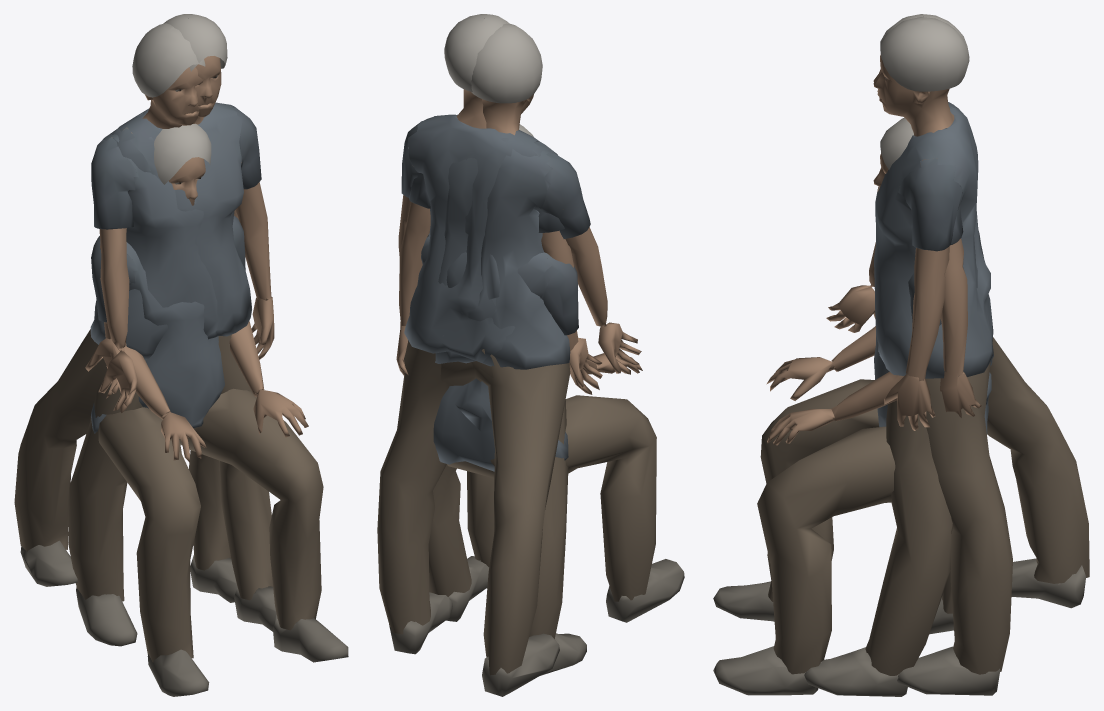
Rendered from crowd-09-crowd.glb.
3 renders of one model, left to right at view 1: azimuth 30°, elevation 25°; view 2: azimuth 150°, elevation 25°; view 3: azimuth 270°, elevation 25°, orthographic. The views are drawn at different scales.
Visible parts, largest first — view 1: seated, walking, standing; view 2: walking, standing, seated; view 3: standing, walking, seated.
Boxes of the visible parts, bbox=[...] form: seated: bbox=[91, 123, 348, 696]; walking: bbox=[14, 23, 276, 631]; standing: bbox=[68, 14, 274, 646]; walking: bbox=[396, 23, 641, 696]; standing: bbox=[377, 14, 602, 675]; seated: bbox=[421, 124, 684, 622]; standing: bbox=[873, 17, 1012, 695]; walking: bbox=[804, 14, 1089, 696]; seated: bbox=[713, 117, 991, 695].
Size of the model in its own units: 0.5242 by 1.58 by 0.8331.
